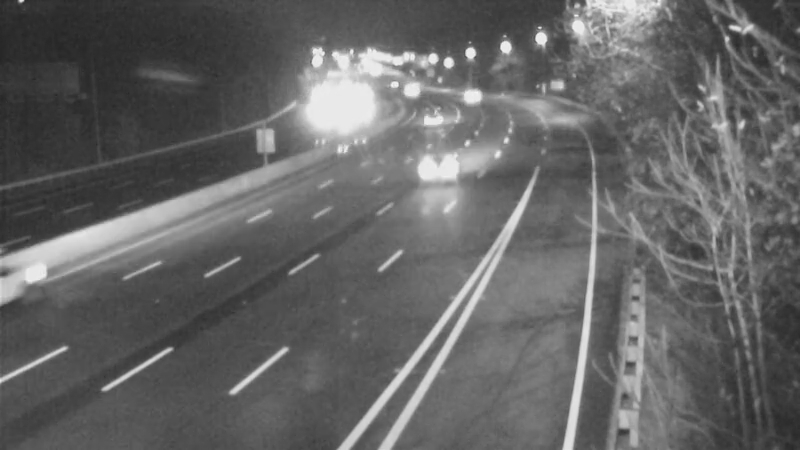vehicle: (410, 125, 490, 205), (1, 243, 68, 323), (383, 62, 433, 112), (447, 70, 497, 120), (400, 92, 450, 142)
